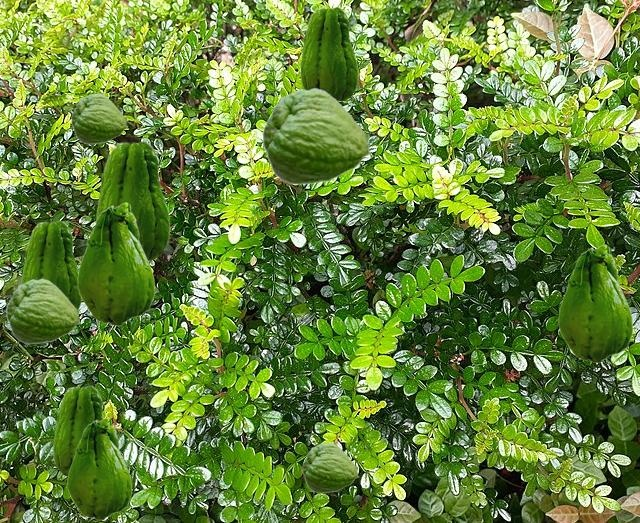sayote: (262, 87, 371, 184), (77, 202, 154, 325), (96, 140, 169, 261), (558, 244, 632, 362), (67, 417, 131, 519), (300, 6, 357, 102), (21, 220, 81, 308), (6, 278, 80, 343), (53, 385, 103, 477), (302, 442, 358, 492), (71, 93, 127, 143)
